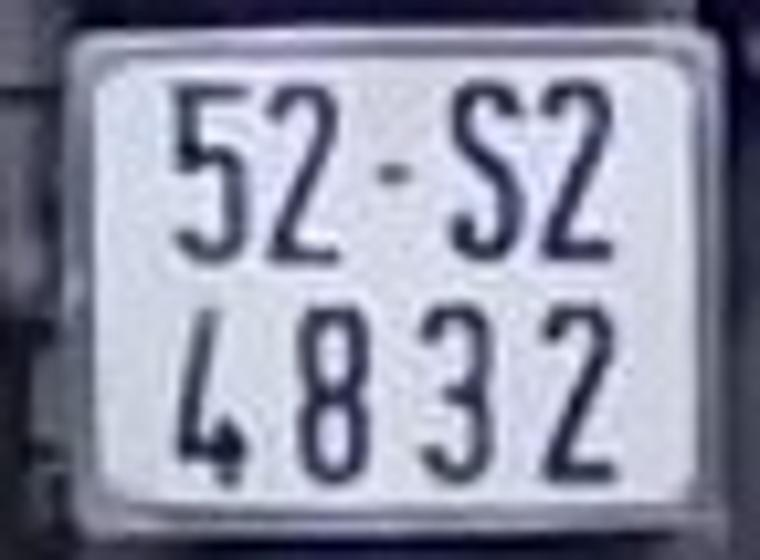-: (371, 158, 421, 189)
2: (535, 75, 619, 270), (537, 300, 622, 486), (264, 82, 343, 275)
3: (412, 302, 496, 488)
4: (168, 307, 255, 492)
5: (171, 81, 253, 267)
8: (288, 303, 376, 490)
S: (450, 76, 525, 268)
